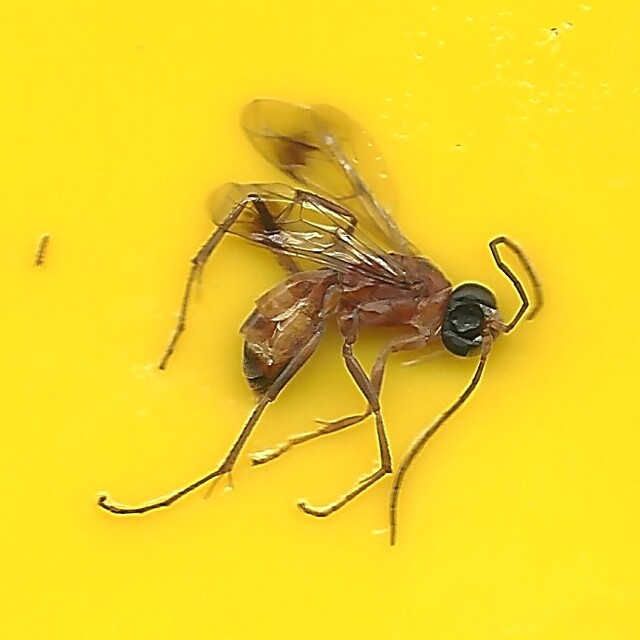Hymenoptera: (92, 95, 548, 545)
